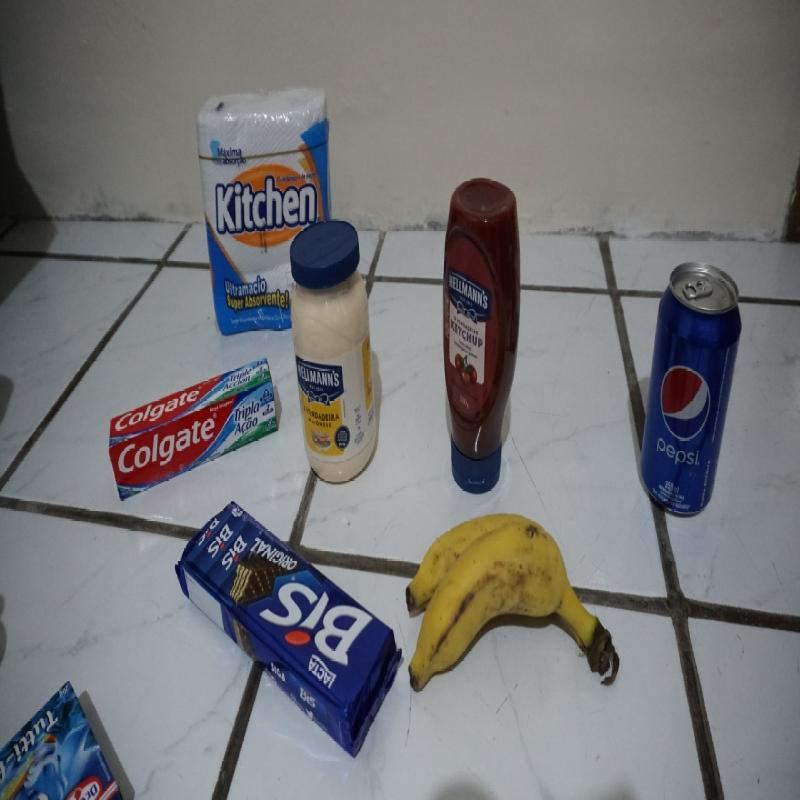Banana: (406, 514, 615, 688)
Gelatine: (1, 680, 125, 799)
Ketchup: (443, 179, 521, 499)
Mayonnaise: (291, 221, 378, 483)
Napkin: (196, 94, 338, 338)
Soda can: (641, 262, 741, 516)
Toothpaste: (110, 357, 279, 502)
